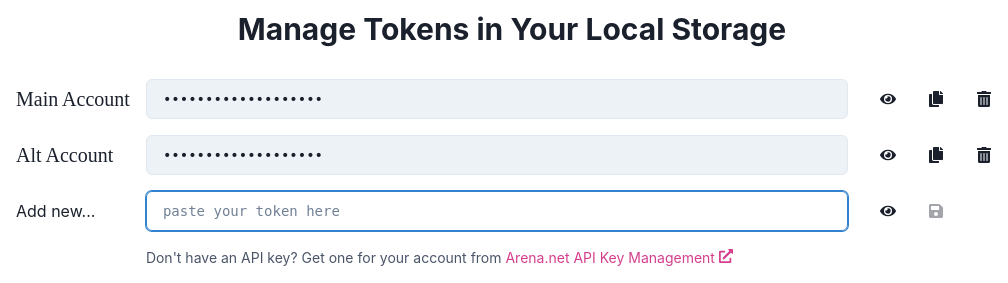
Test: Settings › hides a revealed token when clicking the hide button
Click the 1st button named "Reveal token": (888, 99) x1=864 y1=79 x2=912 y2=119
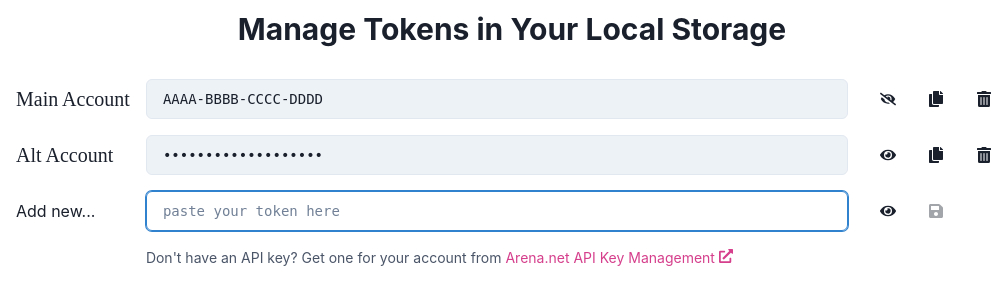
Click the button named "Hide token": (888, 99) x1=864 y1=79 x2=912 y2=119
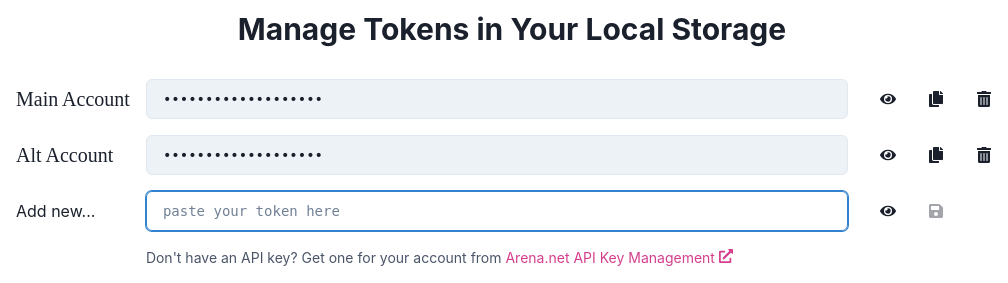
Expected: the 1st password field showing "AAAA-BBBB-CCCC-DDDD" hides its text, x1=146 y1=79 x2=848 y2=119
